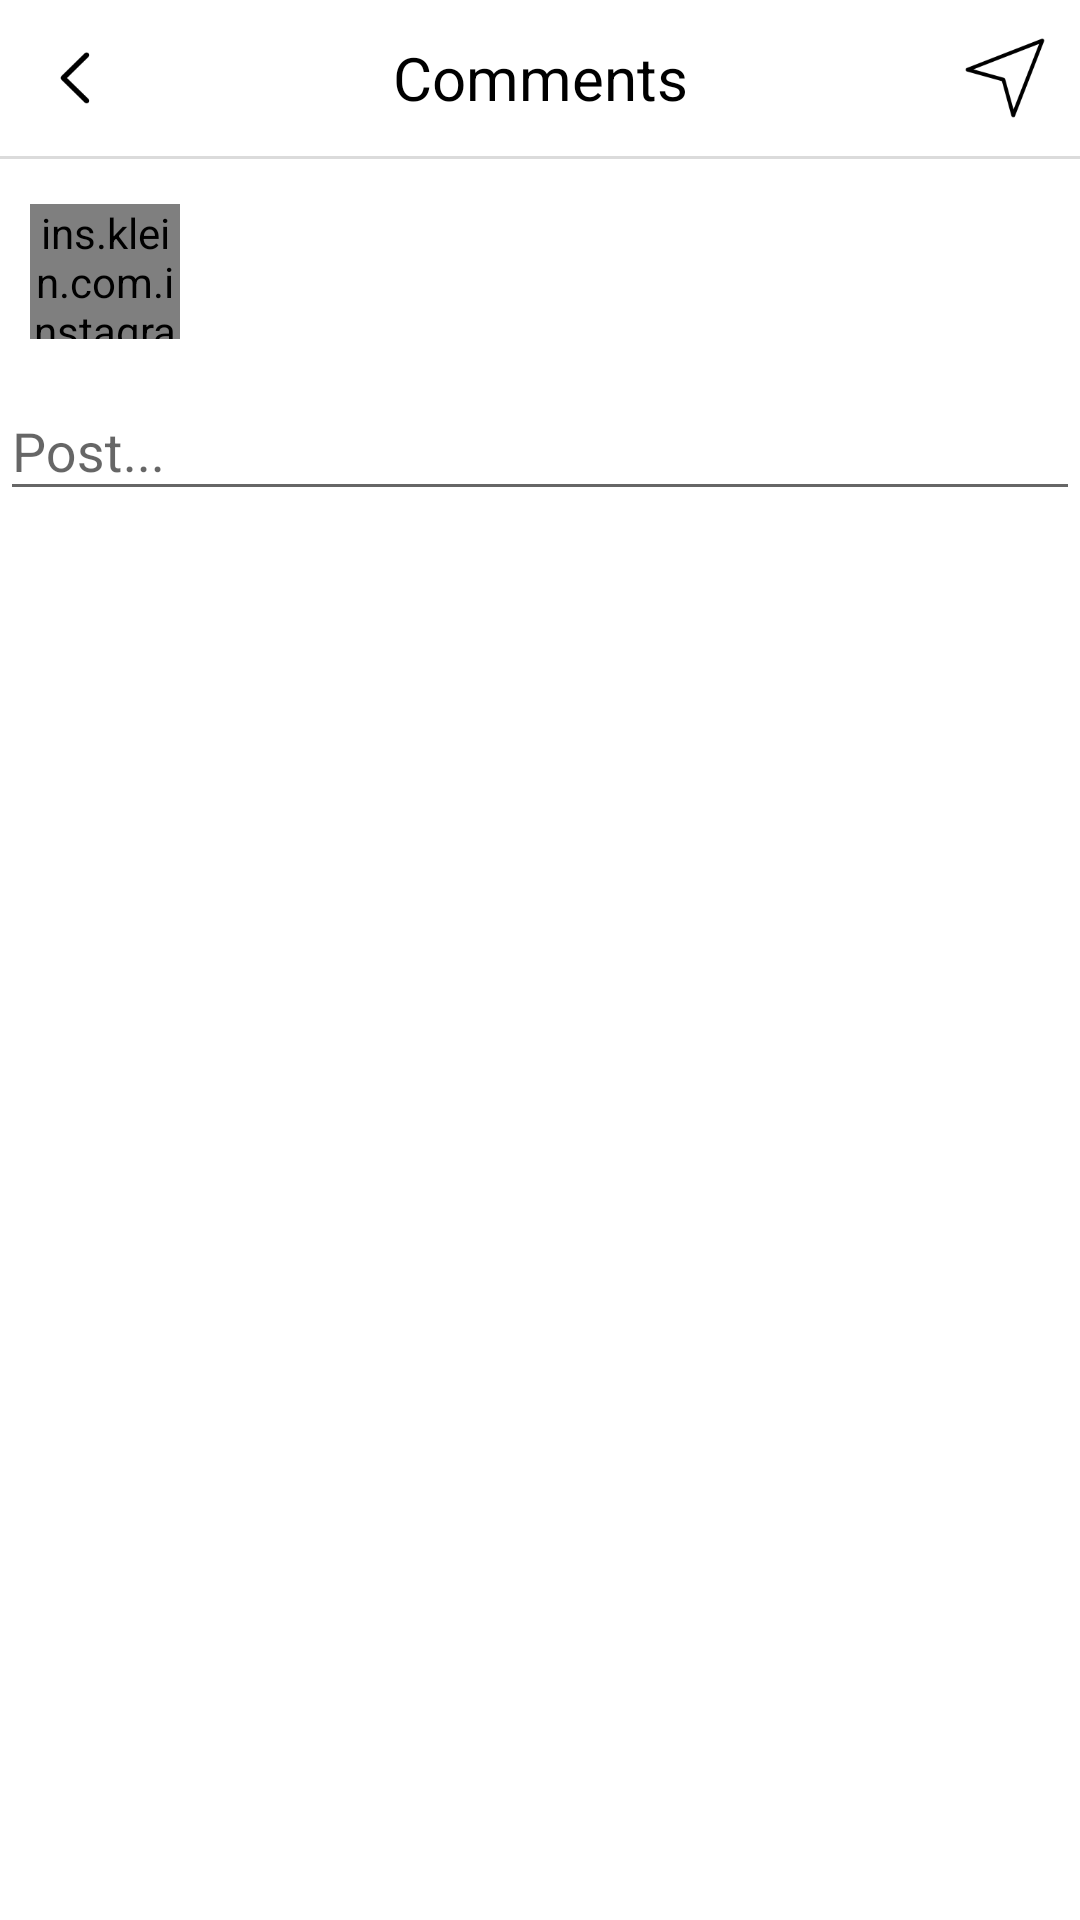

Screen size 1080*1920. Icon name, then its center in pixels as [x,y]:
backward: [75,78]
share: [1005,78]
